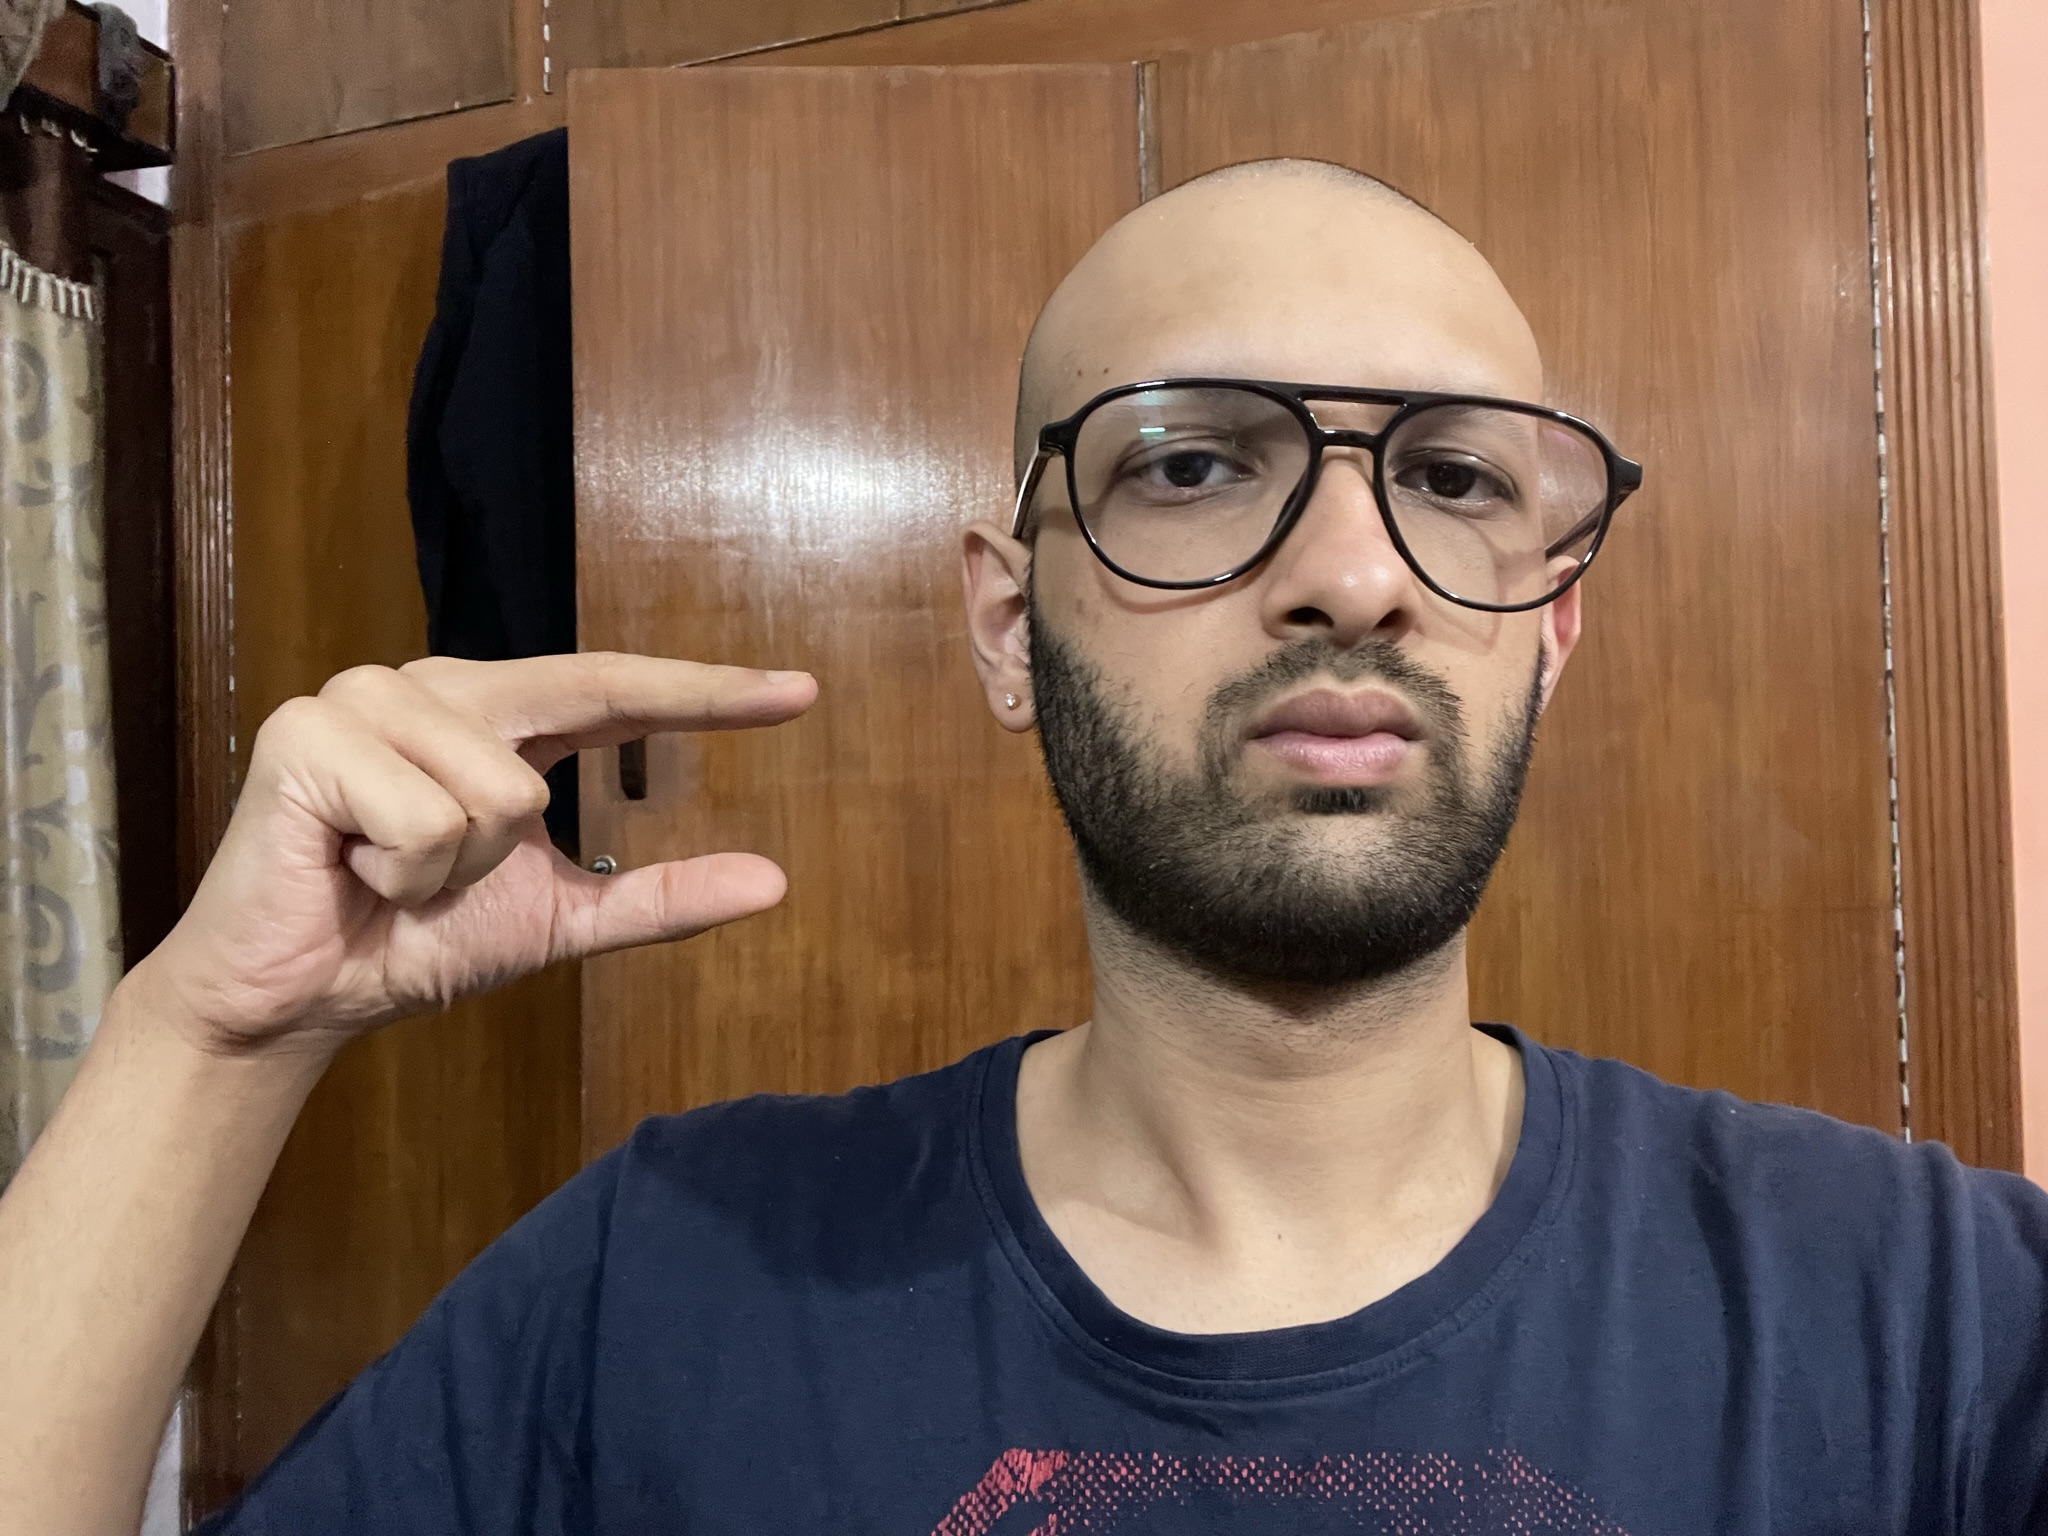No: (137, 645, 830, 1041)
